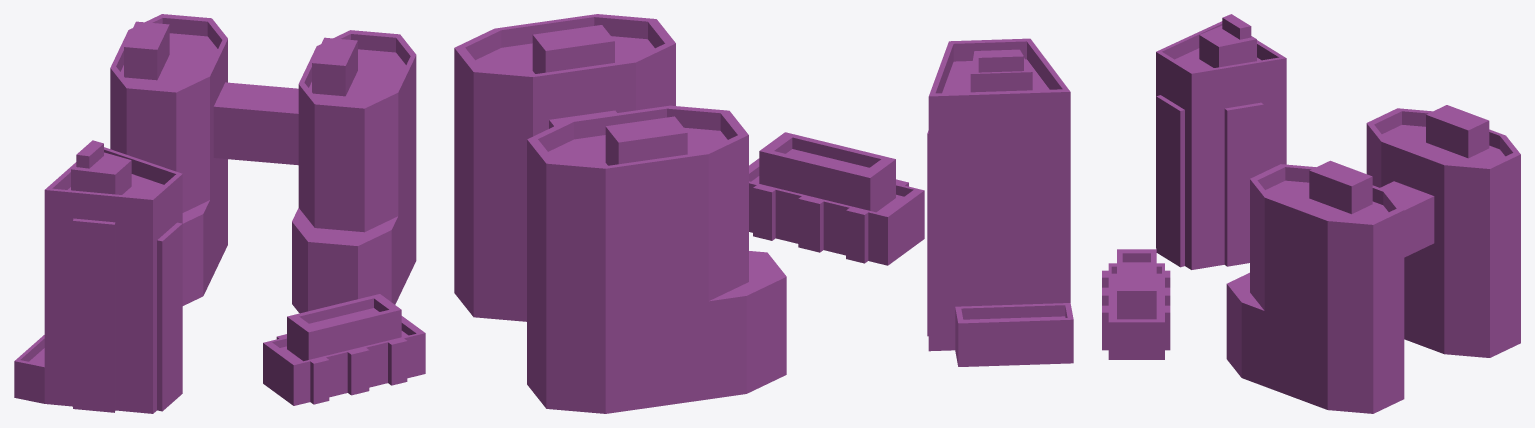
Rendered from HighDensity_01.fbx.
The picture shows the model from 3 angles, left to right: view 1: azimuth 30°, elevation 25°; view 2: azimuth 150°, elevation 25°; view 3: azimuth 270°, elevation 25°; orthographic projection. The views are drawn at different scales.
Parts seen in each view (by area): view 1: HighDesnsityHousing_01; view 2: HighDesnsityHousing_01; view 3: HighDesnsityHousing_01.
Boxes of the visible parts, bbox=[...] form: HighDesnsityHousing_01: bbox=[14, 14, 425, 413]; HighDesnsityHousing_01: bbox=[454, 14, 1073, 413]; HighDesnsityHousing_01: bbox=[1102, 14, 1520, 413].
Size of the model in its own units: 4.58 by 2.32 by 3.99.
